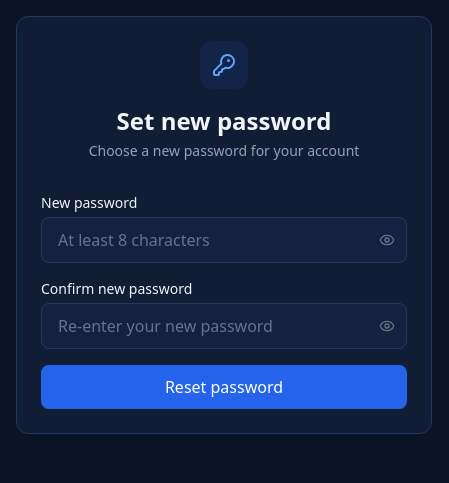
ResetPasswordPage - submission state machine › POSTs the token + password to /api/auth/reset-password and shows the success panel on 200
Type "TestPass2026!" into the password field labelled "New password" at [224, 240], box [41,217,407,263]
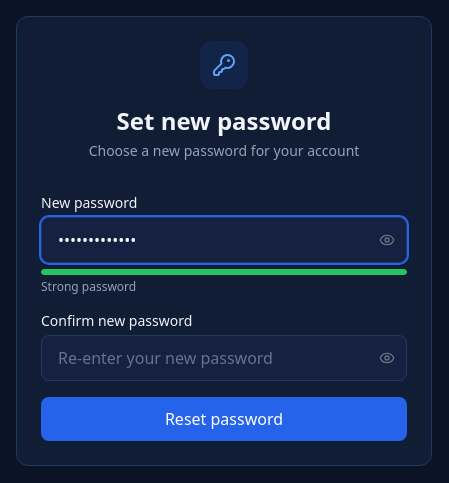
Type "TestPass2026!" into the password field labelled "Confirm new password" at [224, 358], box [41,335,407,381]
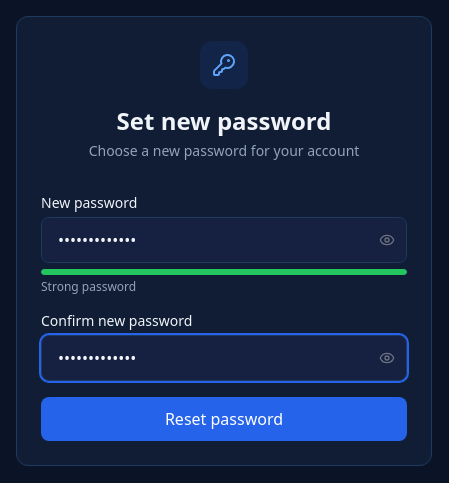
Click the button "Reset password" at [224, 419], box [41,397,407,441]
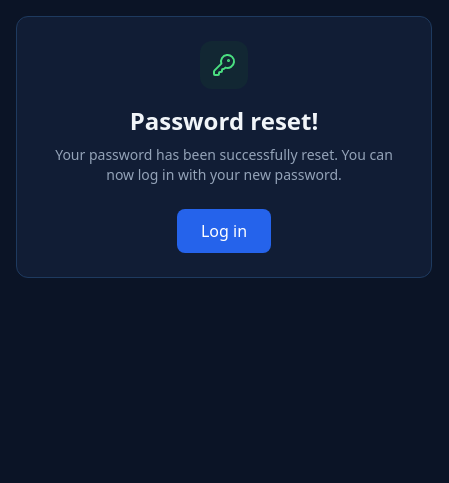
Check: the heading "Password reset!" is shown, box [130,104,318,137]
Check: the link "Log in" is shown, box [177,209,271,253]
